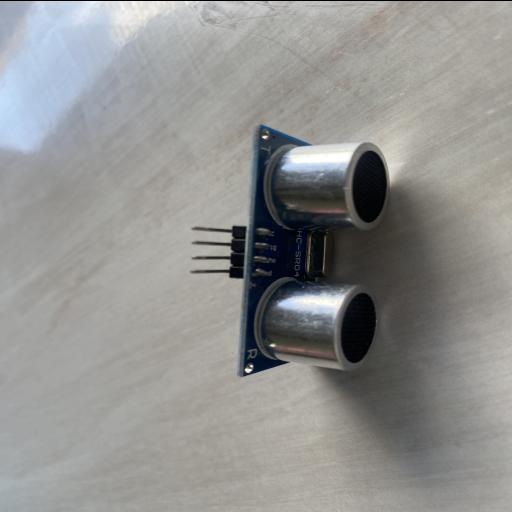Ultrasonic Sensor: (189, 122, 391, 376)
